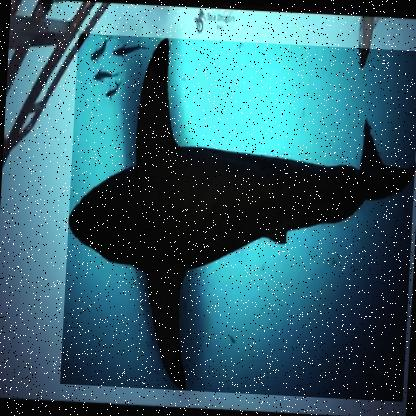white-shark: (59, 32, 415, 403)
